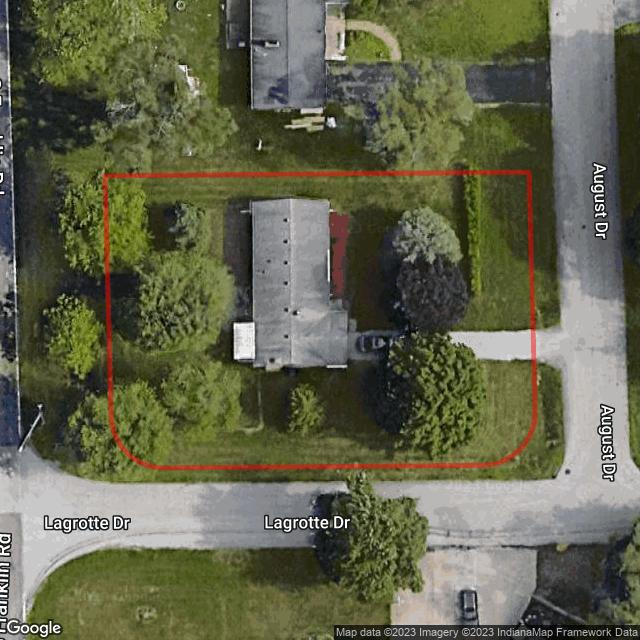Driveway: (348, 319, 532, 361)
Extra Driveway: (536, 325, 562, 371)
Extra Lawn: (108, 360, 565, 483), (531, 170, 559, 330)
House: (234, 199, 348, 369)
Sidewalk: (330, 212, 344, 303)
